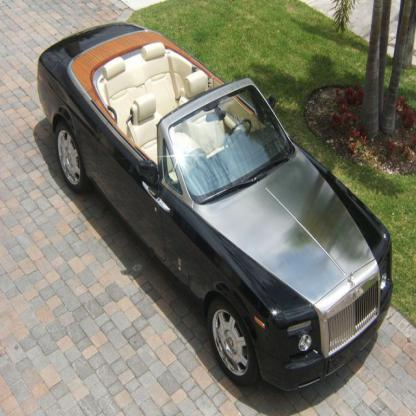Vehicle: (35, 23, 392, 394)
